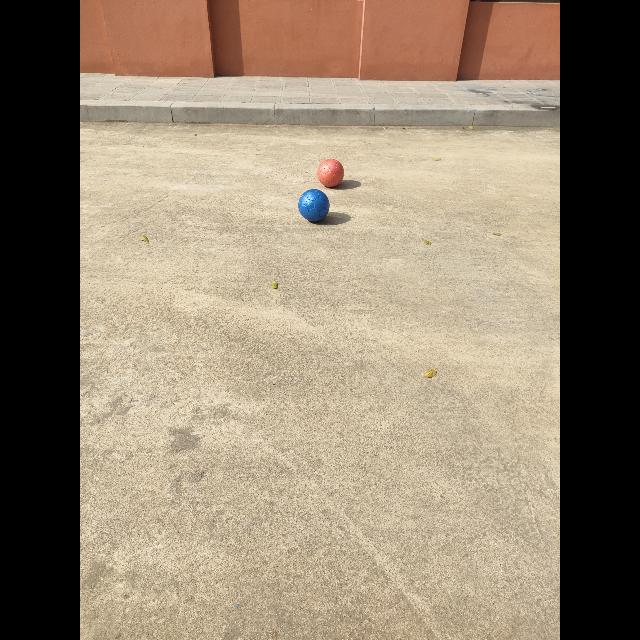B: (298, 189, 330, 221)
R: (318, 159, 344, 188)
